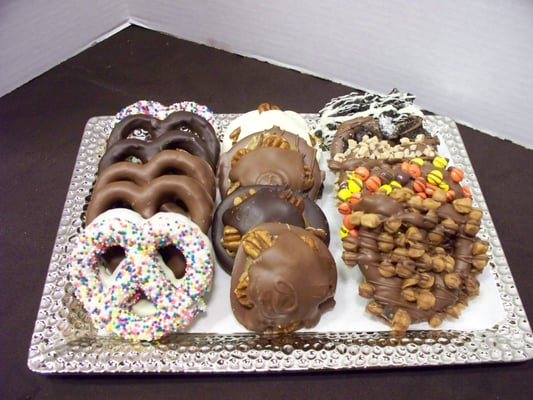salad: (40, 210, 215, 347), (82, 112, 220, 232), (228, 222, 339, 334), (87, 148, 217, 235), (220, 108, 323, 201), (211, 184, 311, 272), (229, 145, 317, 199)
sushi: (333, 154, 492, 328)
